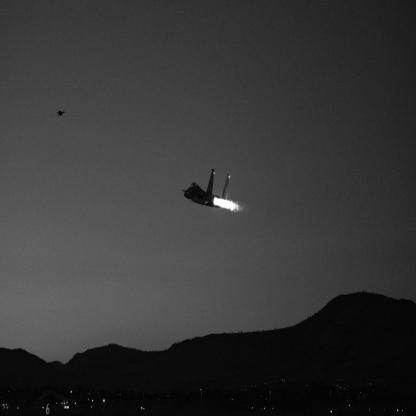F15: (182, 170, 241, 209), (58, 111, 66, 117)
